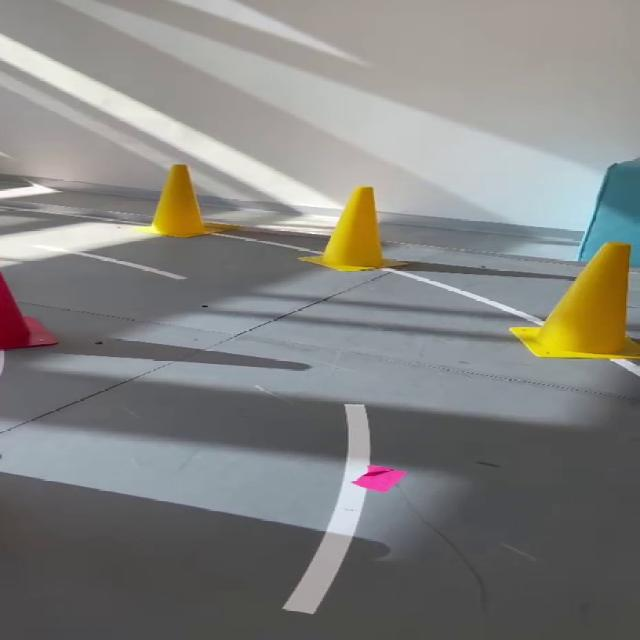Cone-red: (0, 272, 55, 374), (0, 272, 29, 350)
Cones-yellow: (510, 242, 639, 359), (299, 186, 389, 271), (138, 165, 239, 237)
